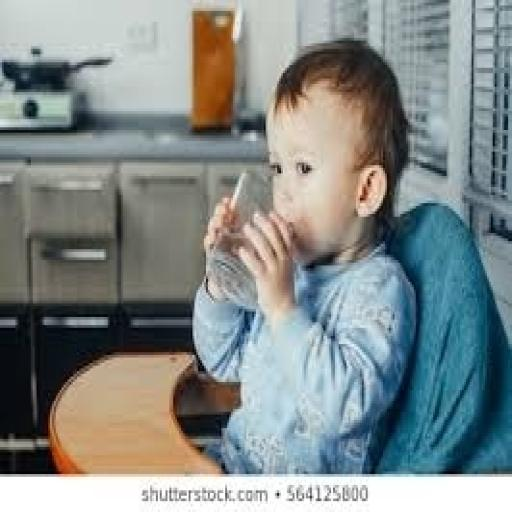drinking: (206, 165, 289, 309)
